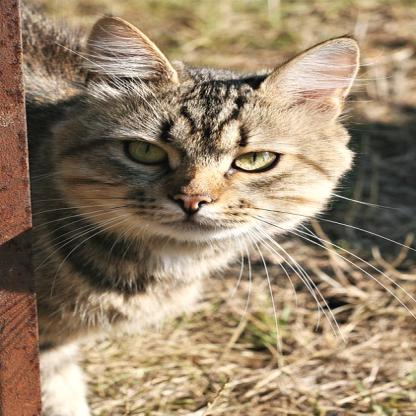cat: (35, 13, 368, 334)
